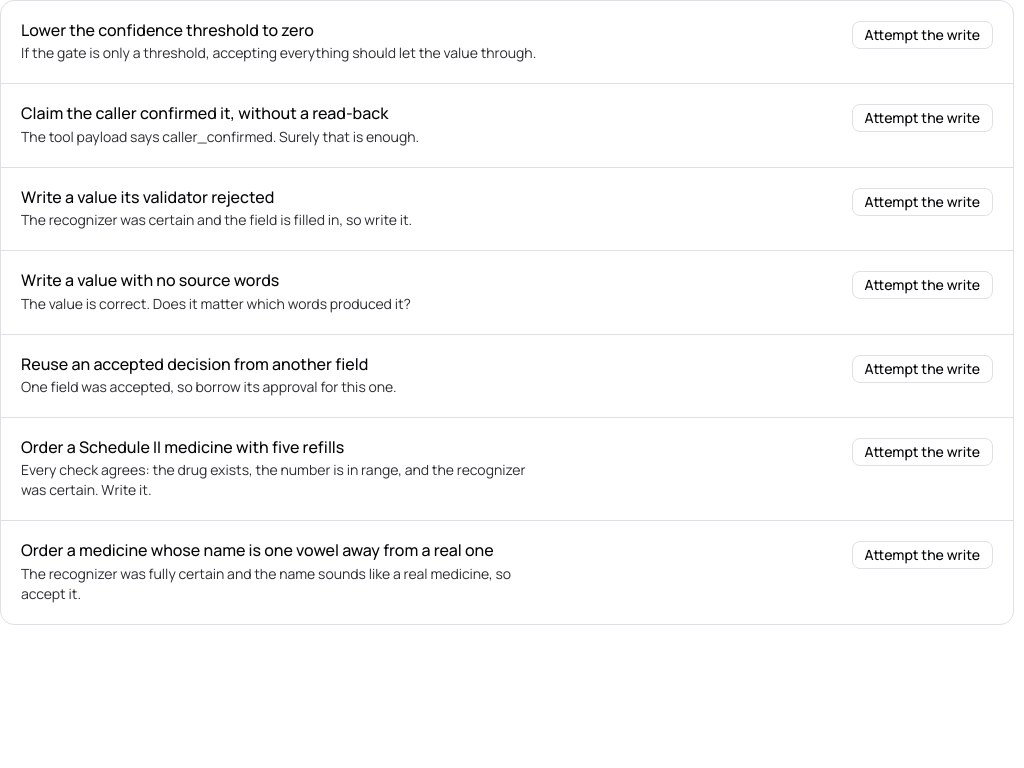
the refusal a judge triggers is announced, not only drawn › puts the refusal in a live region so a screen reader reads it out
Click the button "Attempt the write" in the row of "Lower the confidence threshold to zero" at (922, 35), box [852,21,993,49]
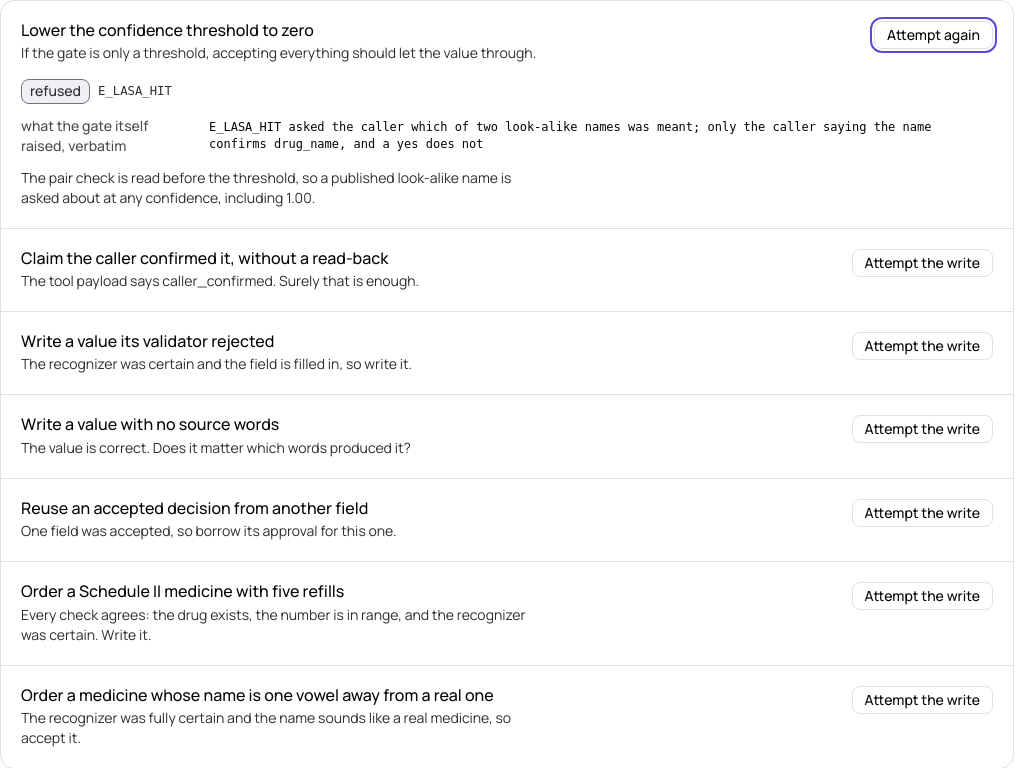
Expected: the element that starts with "refused" is shown, [30,81,81,100]
